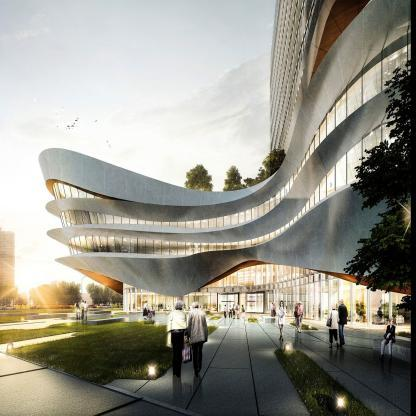Building Outline: (38, 0, 411, 327)
Door: (217, 292, 239, 312), (246, 291, 265, 313)
Facade: (38, 0, 412, 327)
Glass Wall: (60, 29, 411, 228), (68, 104, 412, 255), (123, 264, 411, 327), (277, 0, 316, 151), (273, 0, 307, 151), (271, 0, 300, 152), (270, 0, 294, 139), (271, 0, 289, 120), (283, 64, 305, 149), (271, 0, 285, 104), (270, 0, 282, 88), (52, 183, 106, 199)
